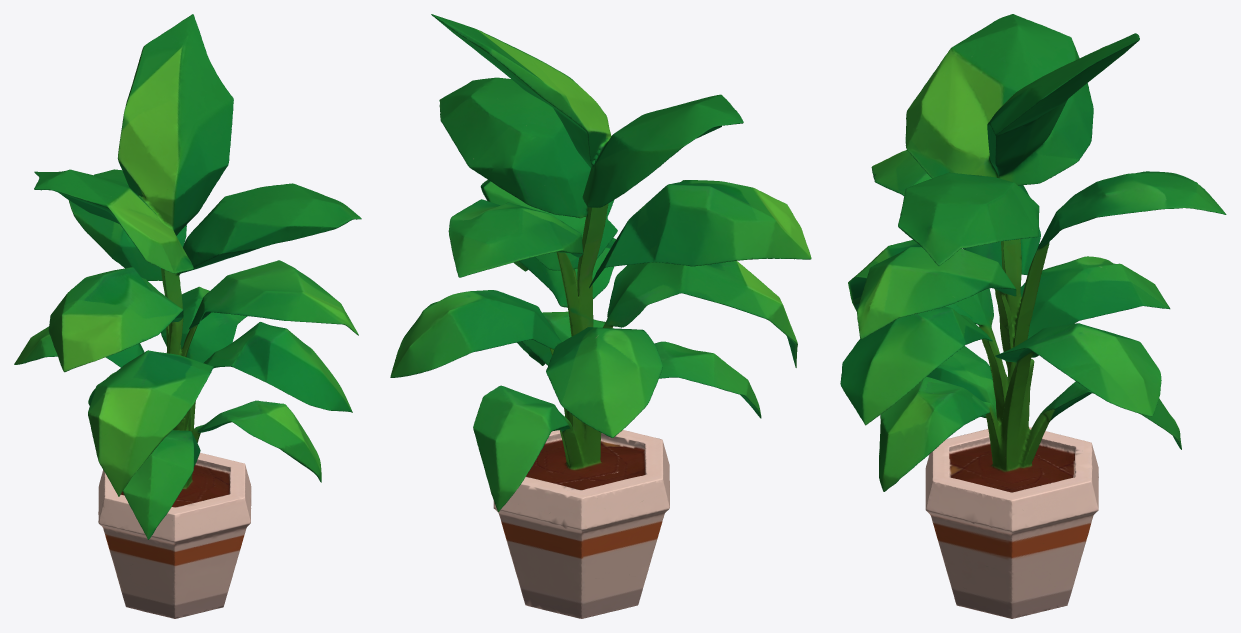
Rendered from Planta.glb.
3 renders of one model, left to right at view 1: azimuth 30°, elevation 25°; view 2: azimuth 150°, elevation 25°; view 3: azimuth 270°, elevation 25°, orthographic. The views are drawn at different scales.
Size of the model in its own units: 1.18 by 1.9 by 1.12.
Materials: 1 (1 with a texture image).
